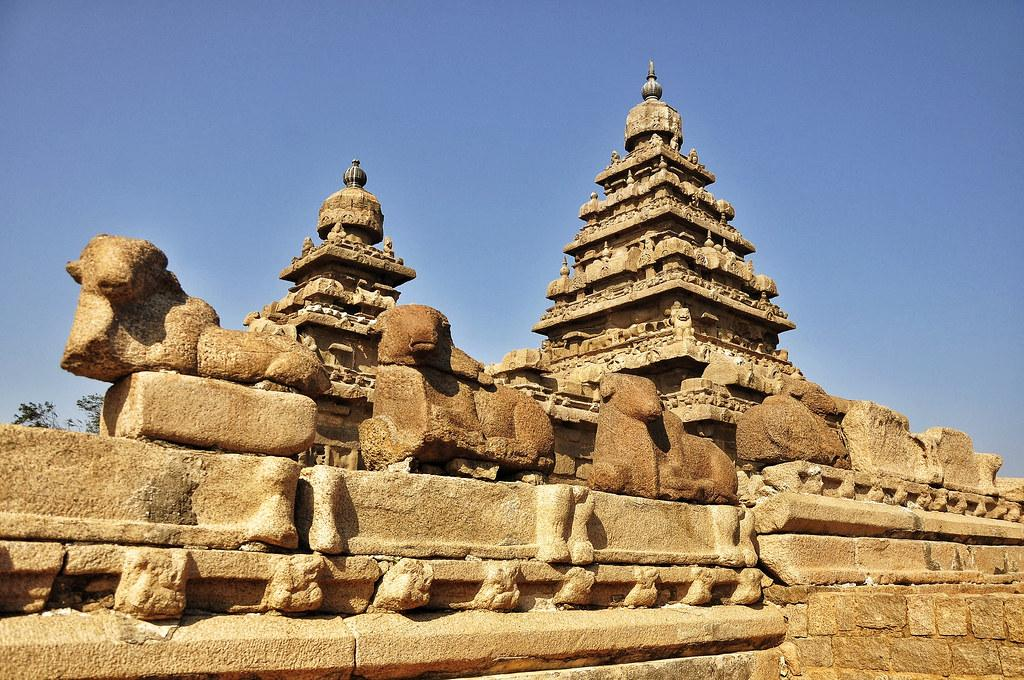temple: (2, 56, 1022, 678), (493, 56, 807, 420), (243, 156, 418, 468)
